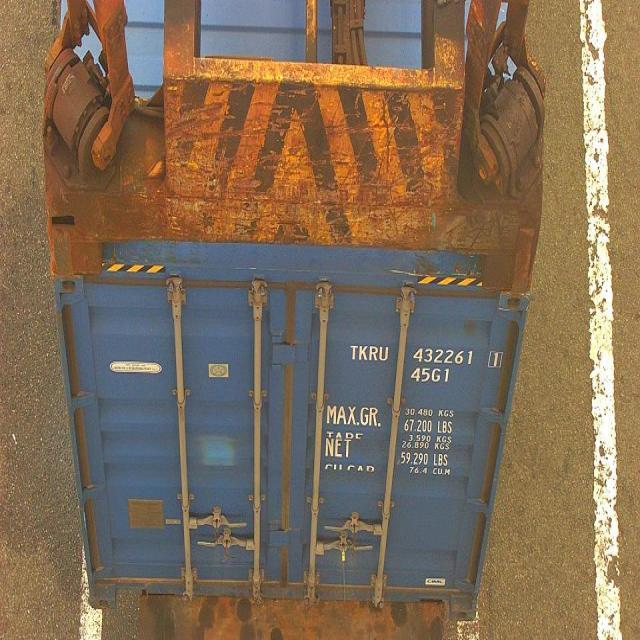ISO: (412, 366, 452, 384)
container_number: (348, 340, 505, 370)
